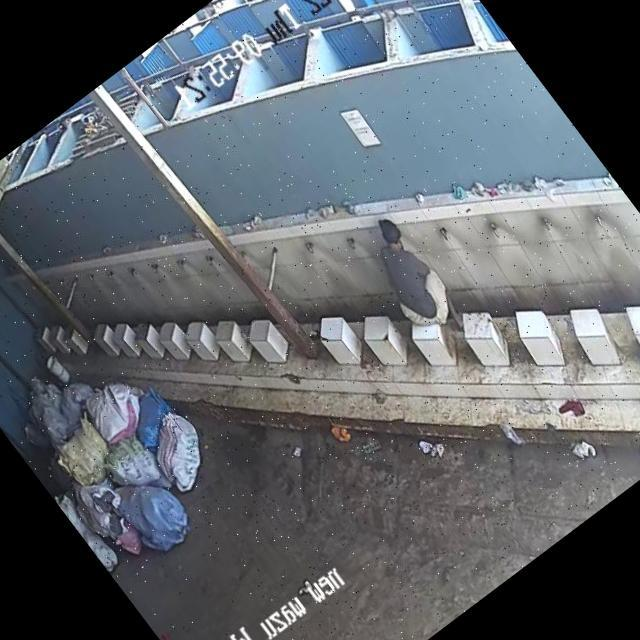person: (349, 210, 464, 337)
